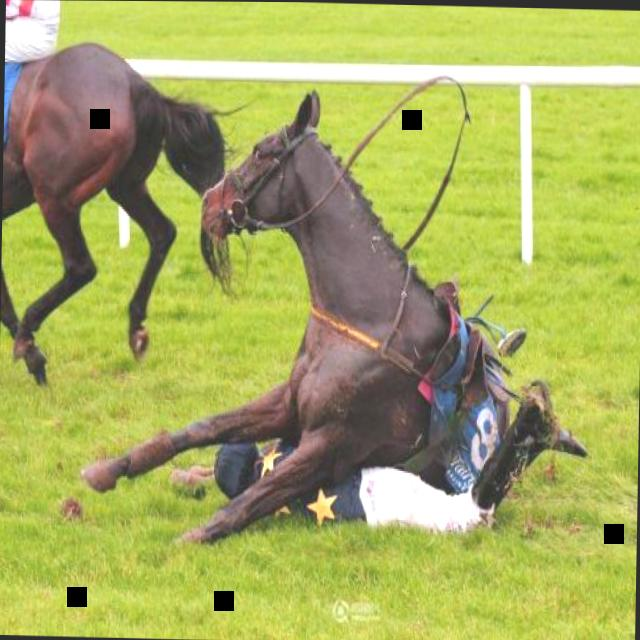Fall-Detected: (0, 0, 226, 370)
